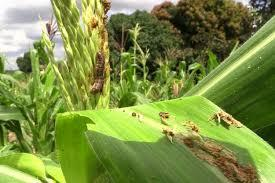fallarmy_worm: (89, 51, 108, 93)
